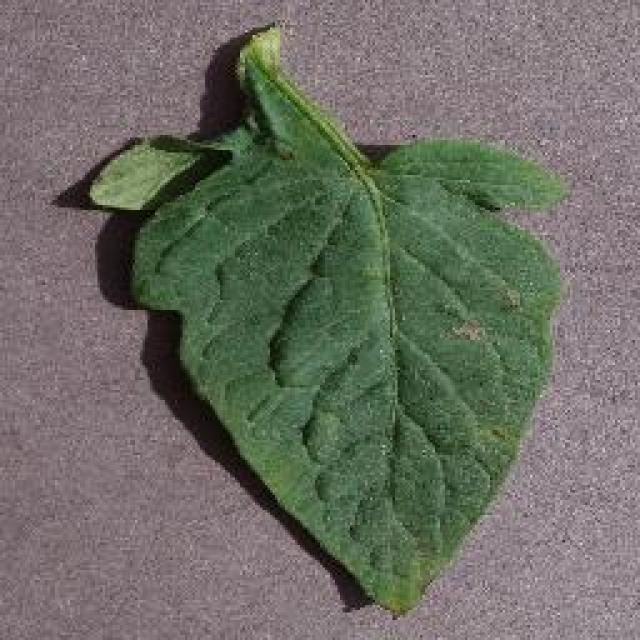Tomato___Target_Spot: (90, 28, 560, 610)
